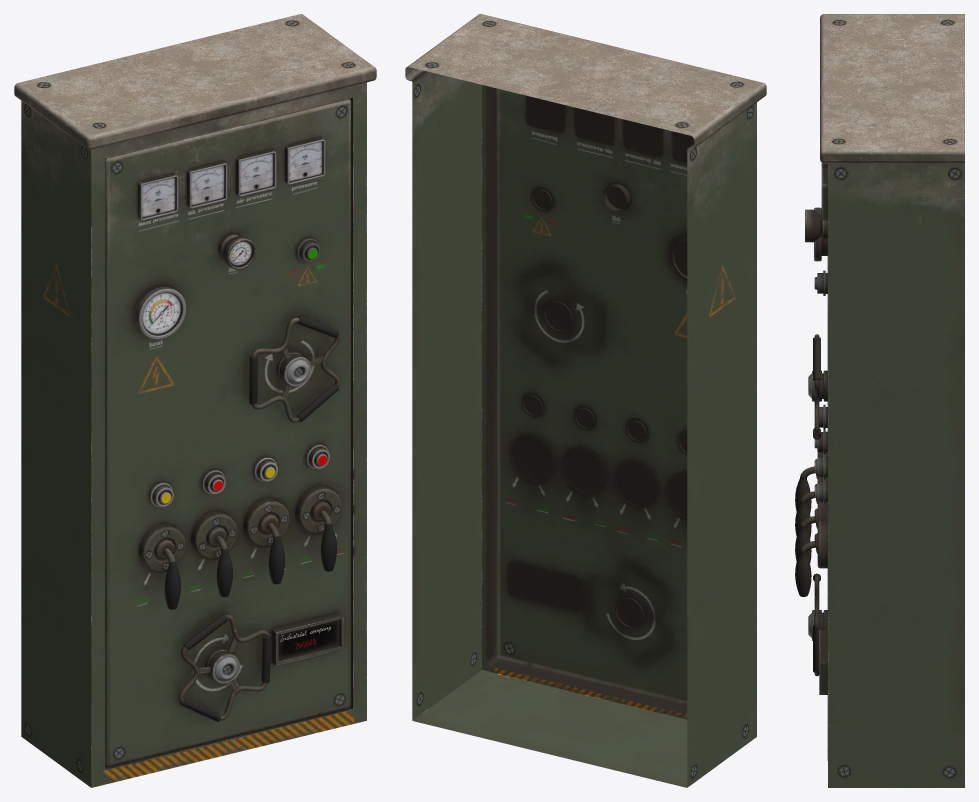
File: electrical_box.glb
The picture shows the model from 3 angles, left to right: view 1: azimuth 30°, elevation 25°; view 2: azimuth 150°, elevation 25°; view 3: azimuth 270°, elevation 25°; orthographic projection. The views are drawn at different scales.
Parts seen in each view (by area): view 1: Null; view 2: Null; view 3: Null.
Boxes of the visible parts, <box> form: Null: <box>14,14,376,787</box>; Null: <box>405,14,766,787</box>; Null: <box>795,14,964,787</box>.
Size of the model in its own units: 0.9456 by 2.04 by 0.491.
1 material, 1 textured.
